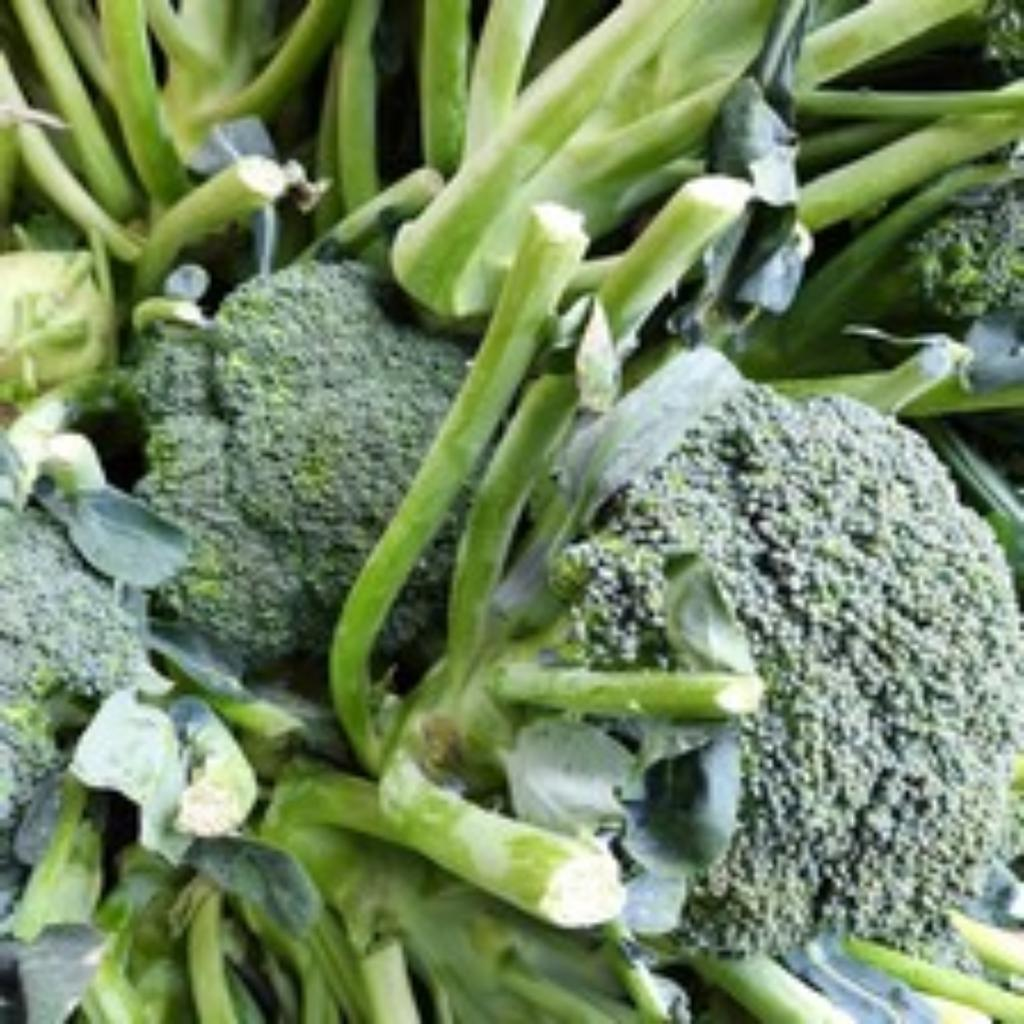Broccoli: (568, 386, 1024, 949), (570, 386, 1024, 951), (136, 264, 464, 670), (136, 264, 464, 669)
